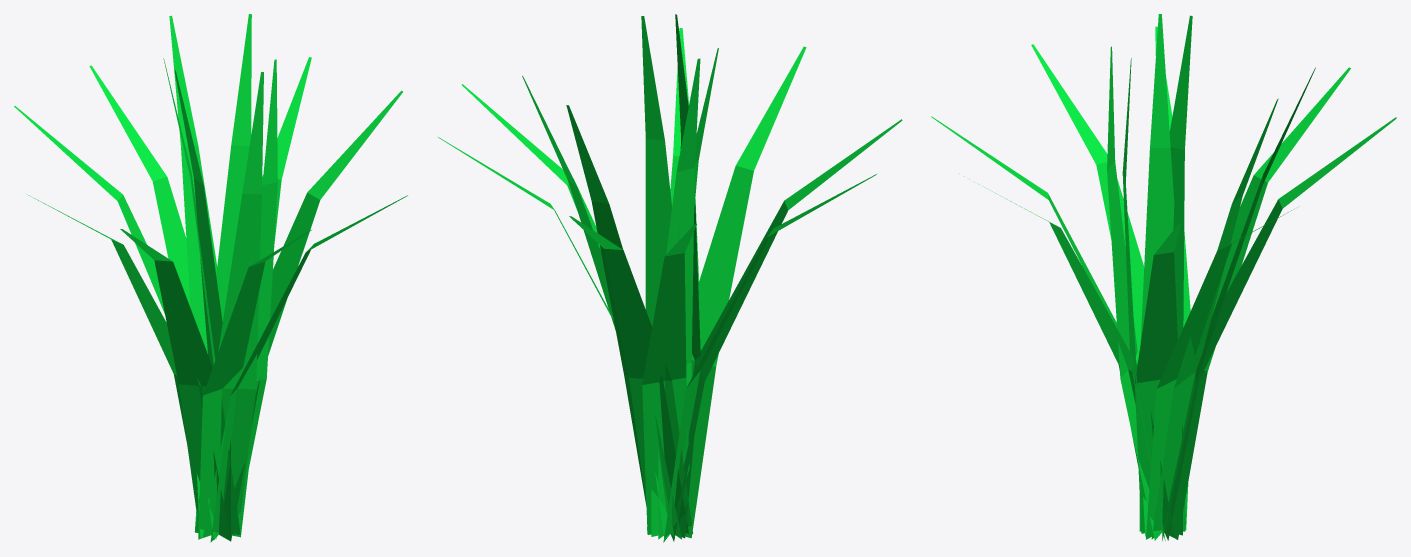
Rendered from grass.fbx.
3 views of the same model, side by side, from view 1: azimuth 30°, elevation 25°; view 2: azimuth 150°, elevation 25°; view 3: azimuth 270°, elevation 25° (orthographic). The views are drawn at different scales.
Parts seen in each view (by area): view 1: Plane.006; view 2: Plane.006; view 3: Plane.006.
Part boxes in pixels (x1,y1,x2,y2): Plane.006: (14,14,407,542); Plane.006: (438,14,902,542); Plane.006: (931,14,1396,541).
Size of the model in its own units: 104 by 122 by 104.
